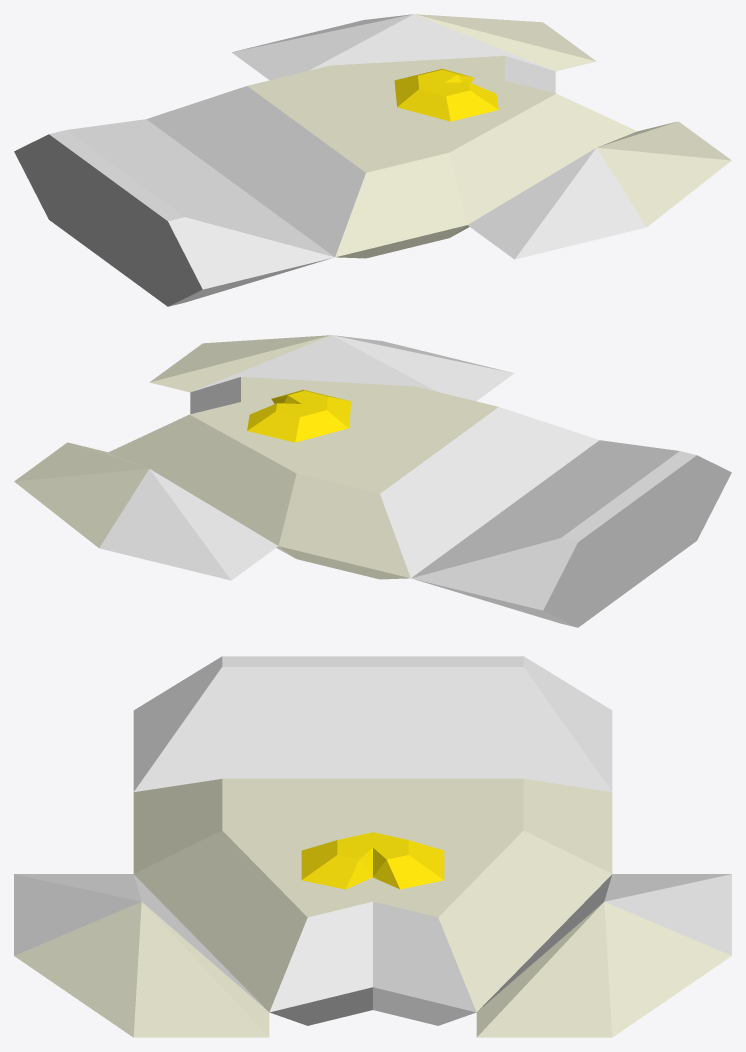
The model's file is WhiteGoldArmor.fbx.
The picture shows the model from 3 angles, top to bottom: view 1: azimuth 30°, elevation 25°; view 2: azimuth 150°, elevation 25°; view 3: azimuth 270°, elevation 25°; orthographic projection. The views are drawn at different scales.
Visible parts, largest first — view 1: WhiteGoldArmor; view 2: WhiteGoldArmor; view 3: WhiteGoldArmor.
Part boxes in pixels (x1=…): WhiteGoldArmor: x1=14, y1=14, x2=731, y2=306; WhiteGoldArmor: x1=14, y1=335, x2=731, y2=627; WhiteGoldArmor: x1=14, y1=656, x2=731, y2=1037.
Bounding box in the file's own units: 0.6472 × 0.115 × 0.6.
